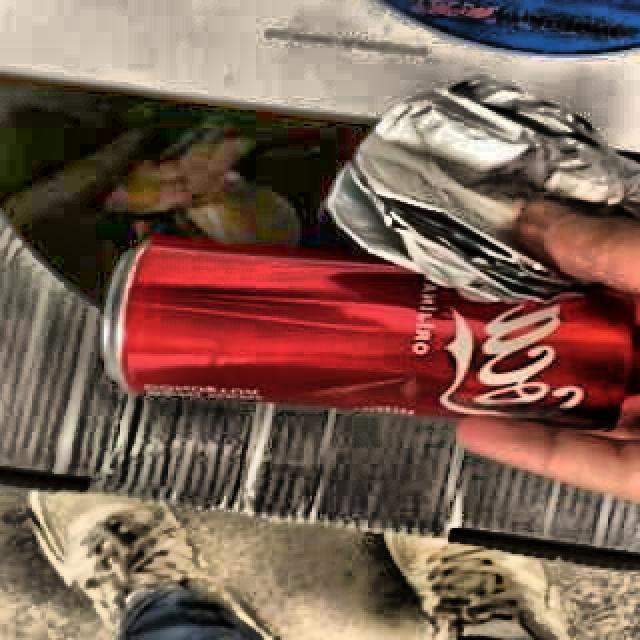metal: (101, 242, 640, 431)
